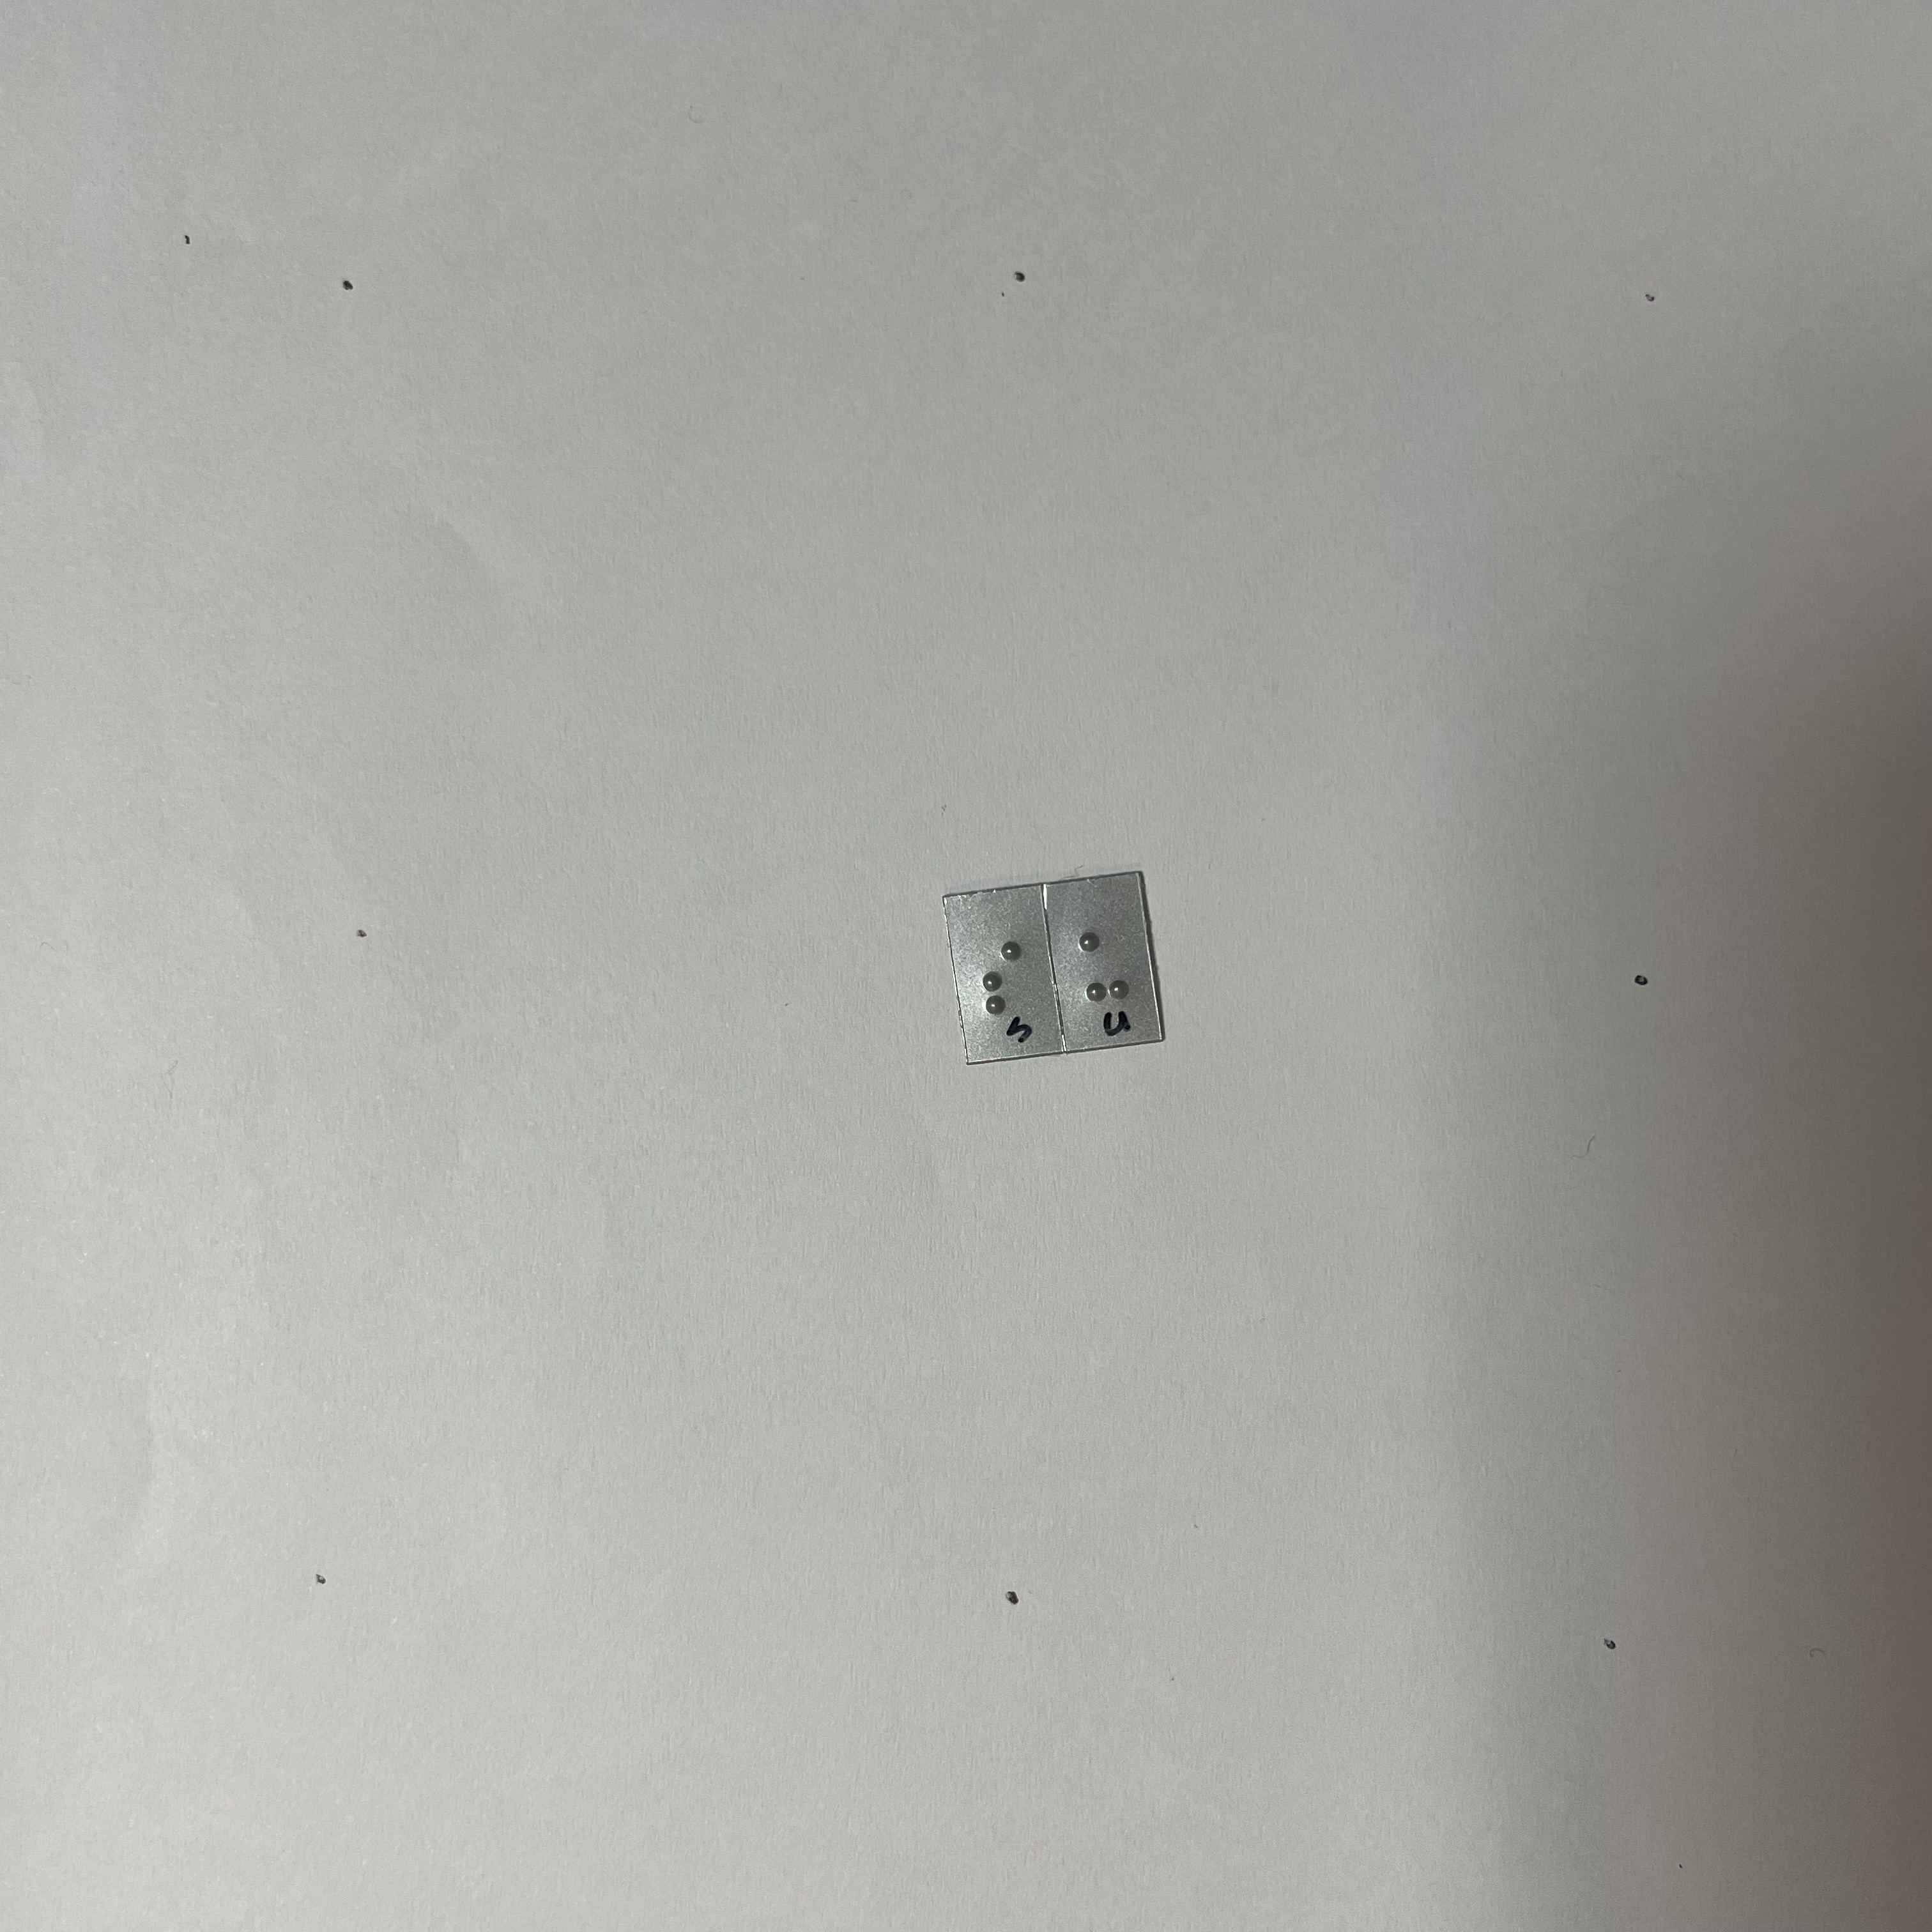s: (976, 927, 1034, 1022)
u: (1071, 919, 1135, 1007)
